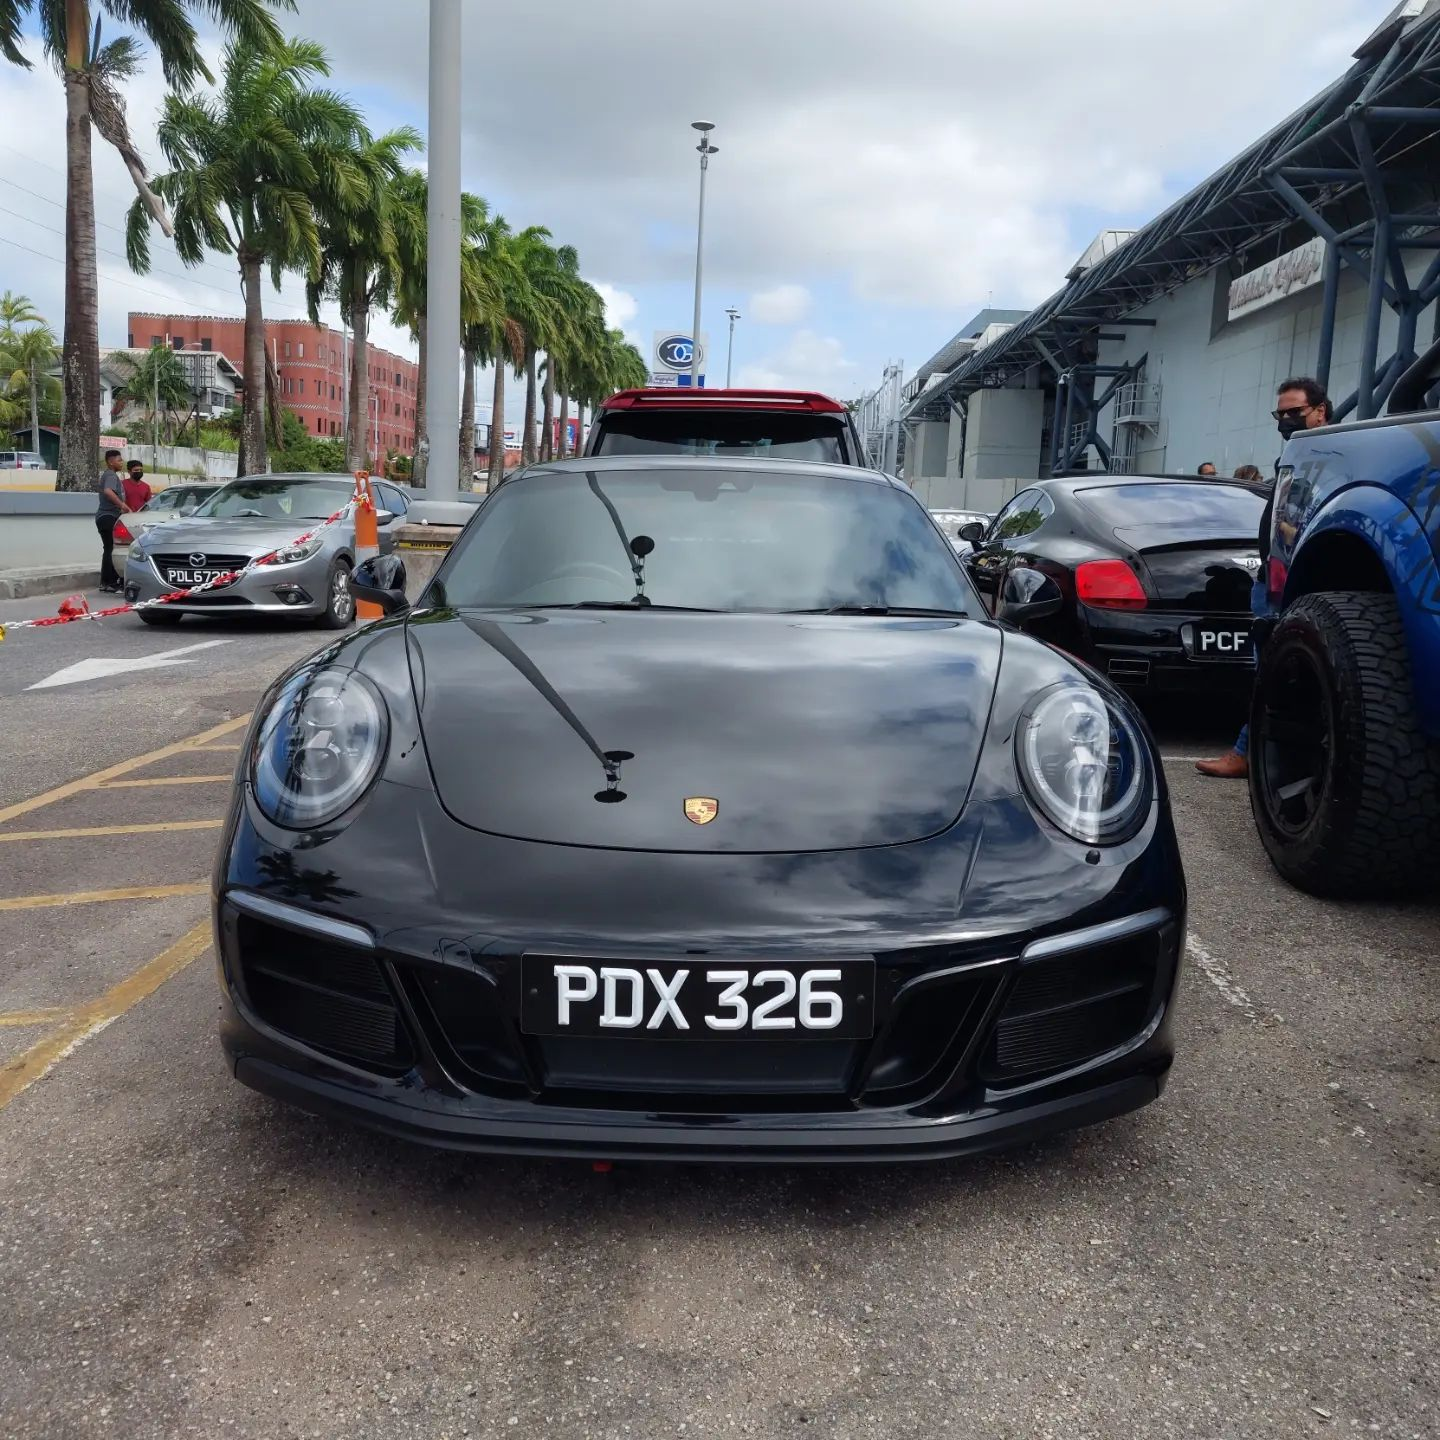License-Plate: (522, 955, 873, 1032)
